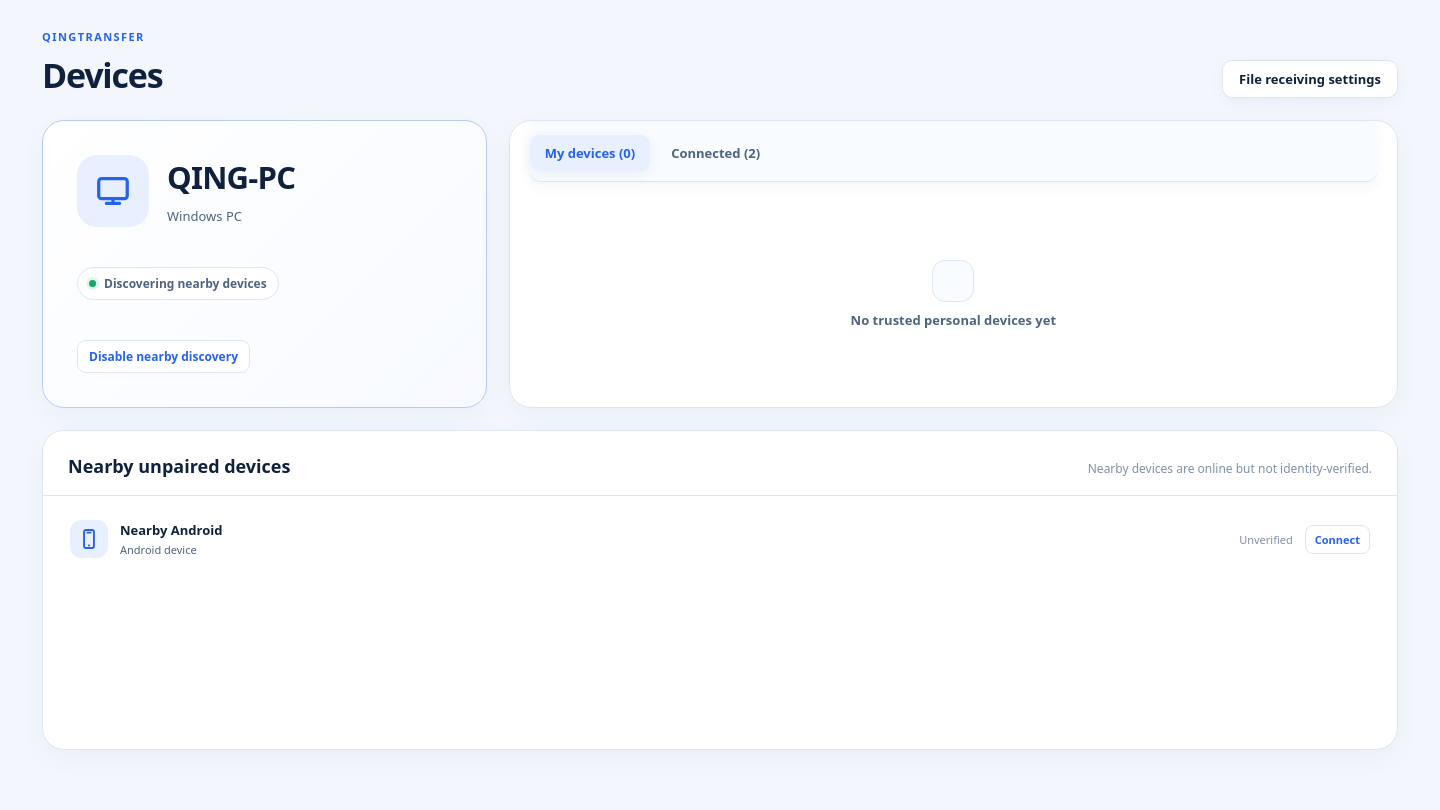
Test case: DevicesPage › distinguishes Windows and Android peers with platform-specific icons
The width and height of the screenshot is (1440, 810).
Click the tab with id "device-tab-connected" at (716, 153), box [656,135,775,171]
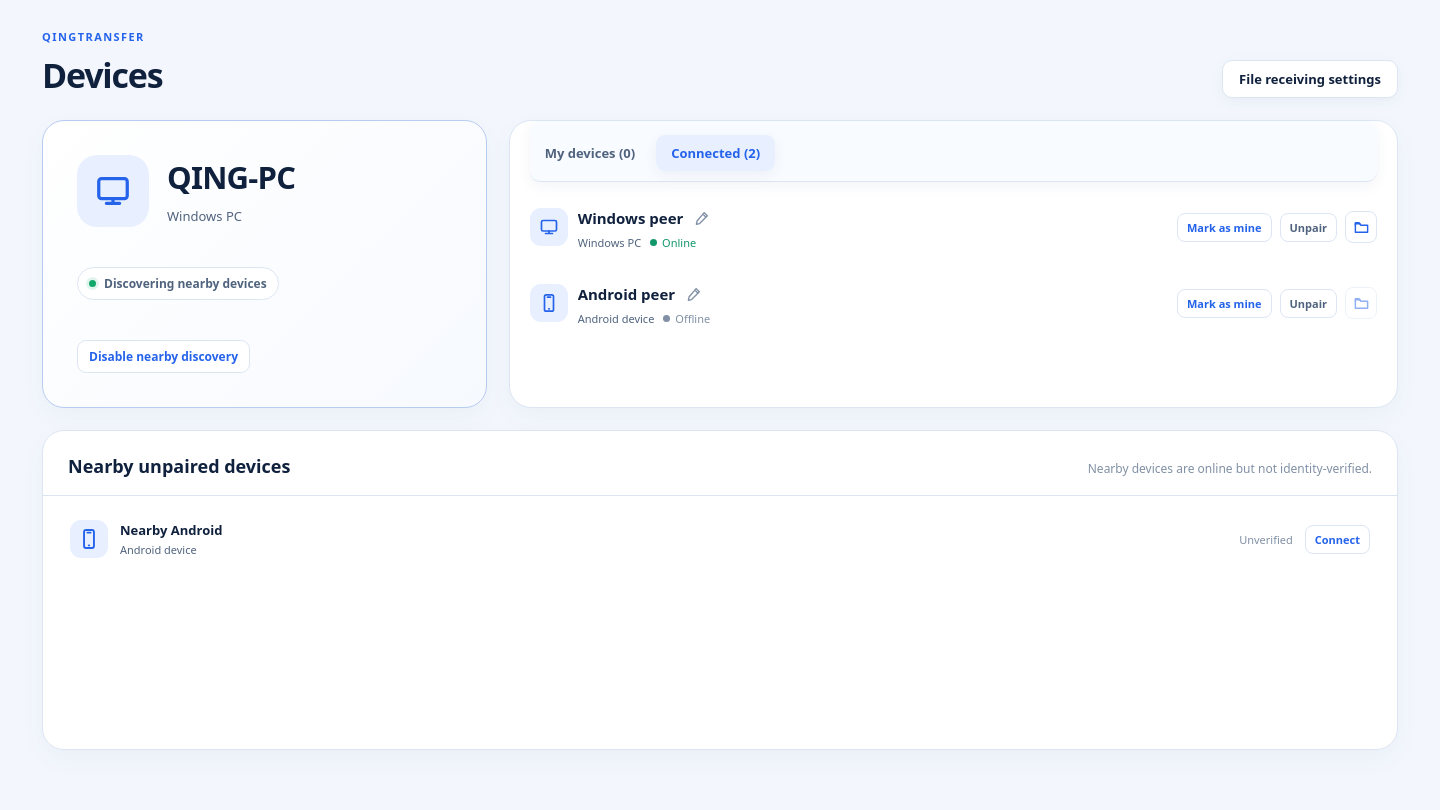
Result: the number of elements with class "devices-paired-item" is 2 at [530,205,1377,250]; [530,281,1377,326]
Result: the button with class "devices-transfer-action" in the row of "Windows peer" is enabled at [1345,211,1377,243]
Result: the button with class "devices-transfer-action" in the row of "Offline" is disabled at [1345,287,1377,319]
